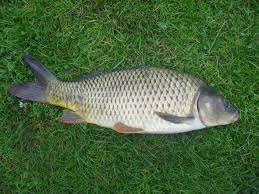carp: (8, 55, 240, 136)
